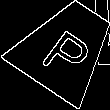P_NE: (35, 16, 97, 79)
